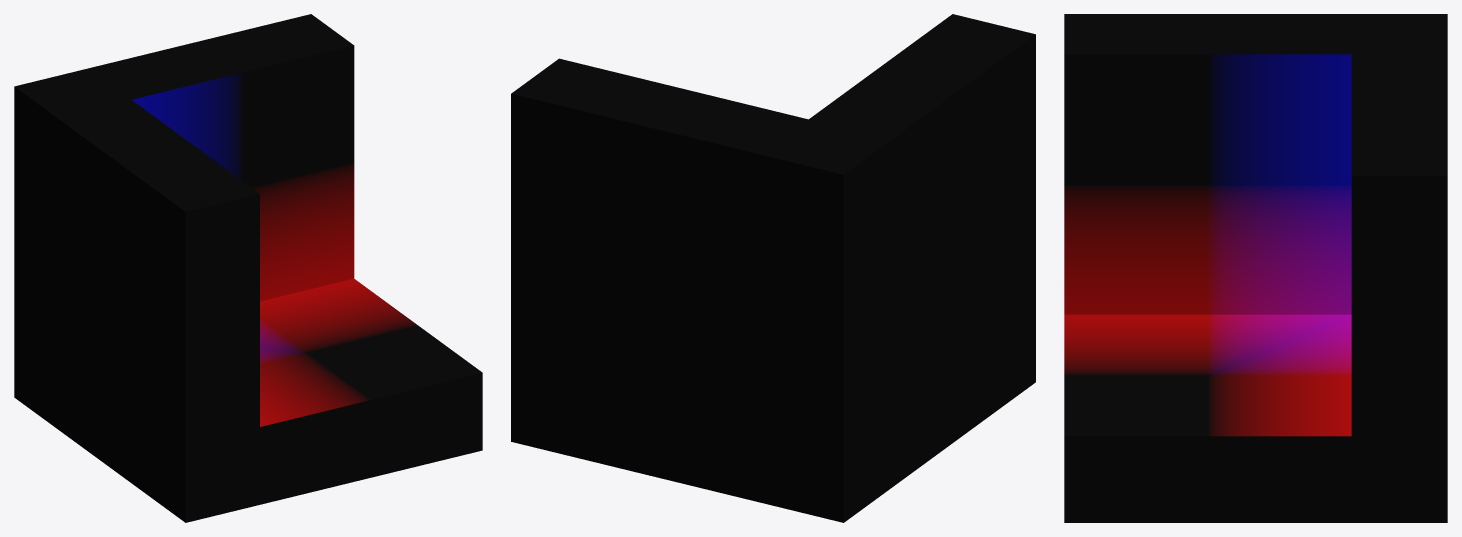
The model's file is insideCorners.glb.
3 renders of one model, left to right at view 1: azimuth 30°, elevation 25°; view 2: azimuth 150°, elevation 25°; view 3: azimuth 270°, elevation 25°, orthographic. The views are drawn at different scales.
Parts seen in each view (by area): view 1: insideCorners_mesh; view 2: insideCorners_mesh; view 3: insideCorners_mesh.
Part boxes in pixels (x1,y1,x2,y2): insideCorners_mesh: (14,14,482,522); insideCorners_mesh: (511,14,1035,522); insideCorners_mesh: (1064,14,1447,522).
Size of the model in its own units: 1 by 1 by 1.
